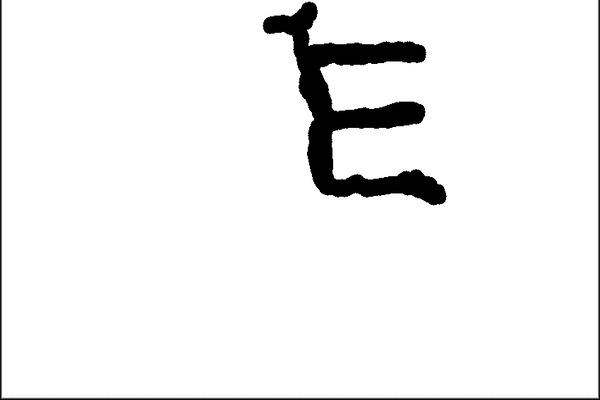E: (258, 0, 464, 208)
